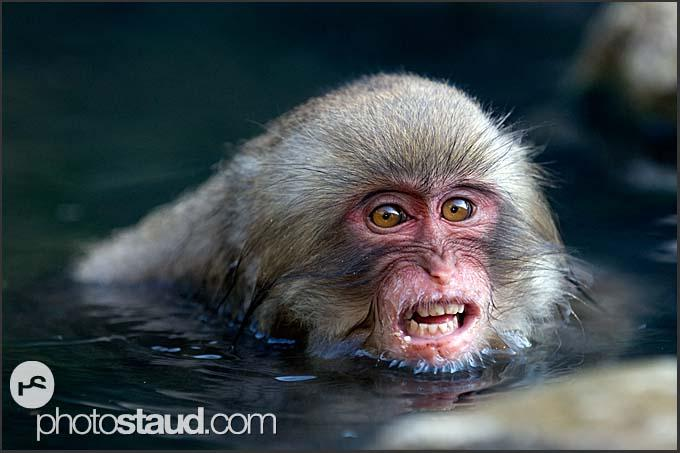monkey: (206, 74, 586, 391)
